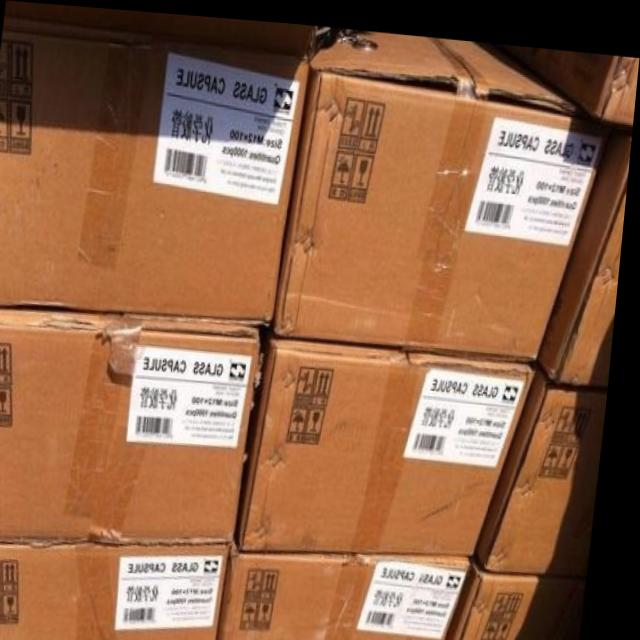box: (279, 20, 613, 353), (0, 13, 311, 320), (247, 331, 541, 547), (0, 308, 268, 542), (481, 355, 614, 569), (229, 539, 480, 640), (542, 110, 635, 378), (0, 538, 239, 640), (456, 549, 595, 640), (489, 34, 640, 113)
